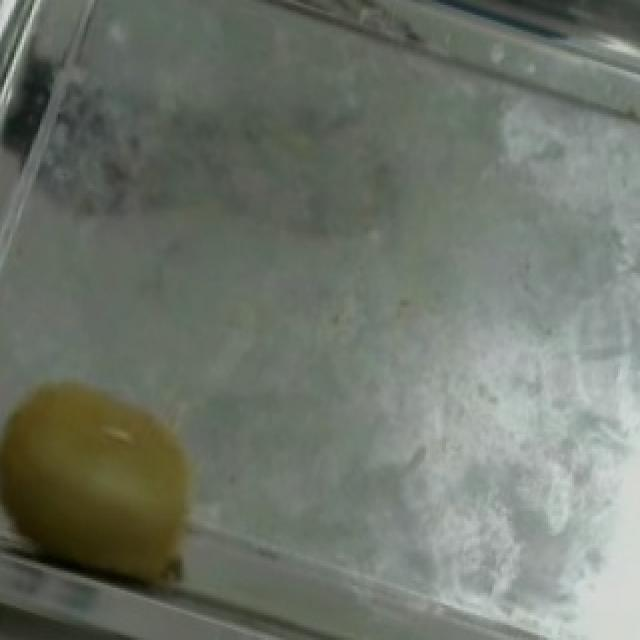Fruit: (0, 340, 244, 637)
